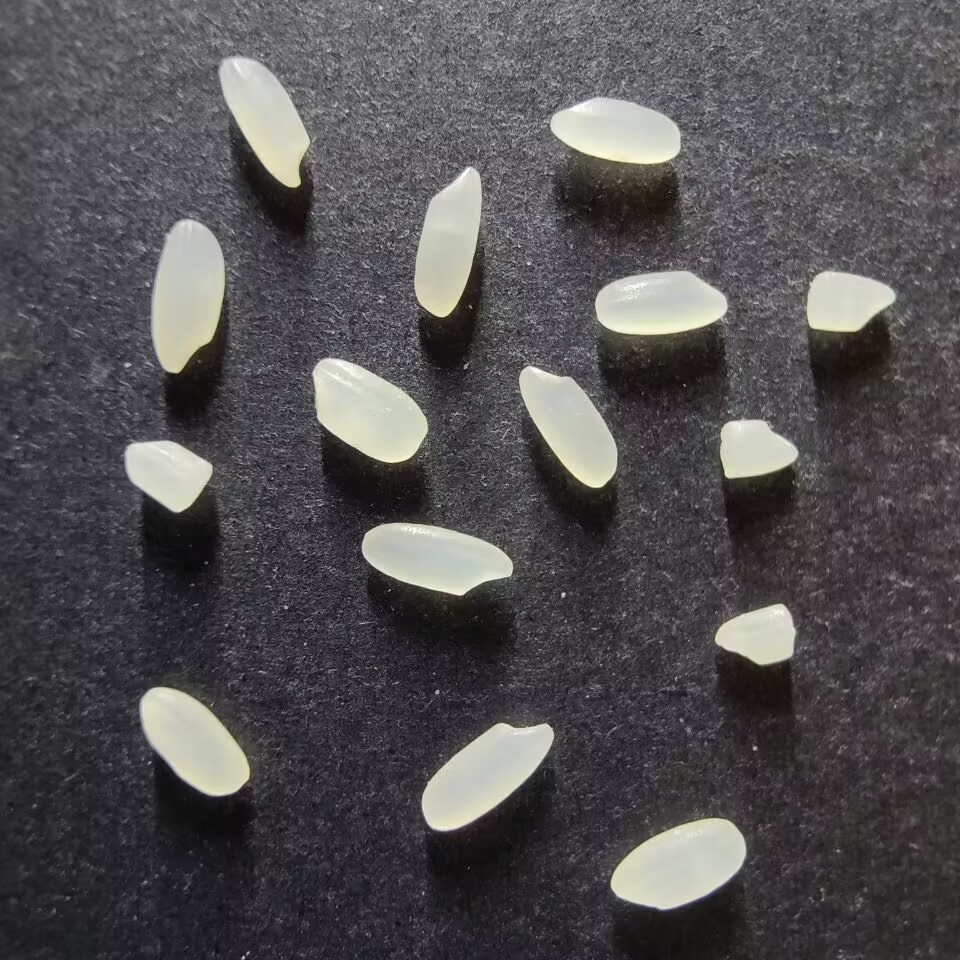broken: (123, 439, 214, 514), (804, 270, 896, 333), (713, 602, 795, 666), (719, 418, 798, 479)
rice: (419, 721, 554, 832), (609, 817, 746, 910), (217, 55, 311, 188), (518, 364, 618, 489), (139, 685, 249, 797), (312, 358, 428, 463), (151, 219, 224, 374), (361, 522, 513, 596), (412, 165, 483, 317), (549, 96, 681, 165), (594, 269, 728, 335)
